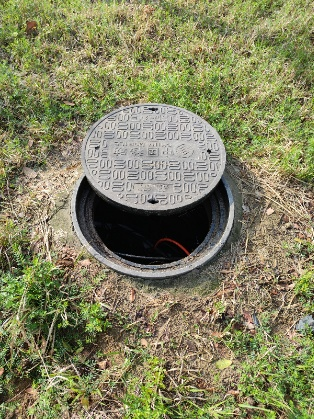uncovered: (71, 104, 237, 278)
